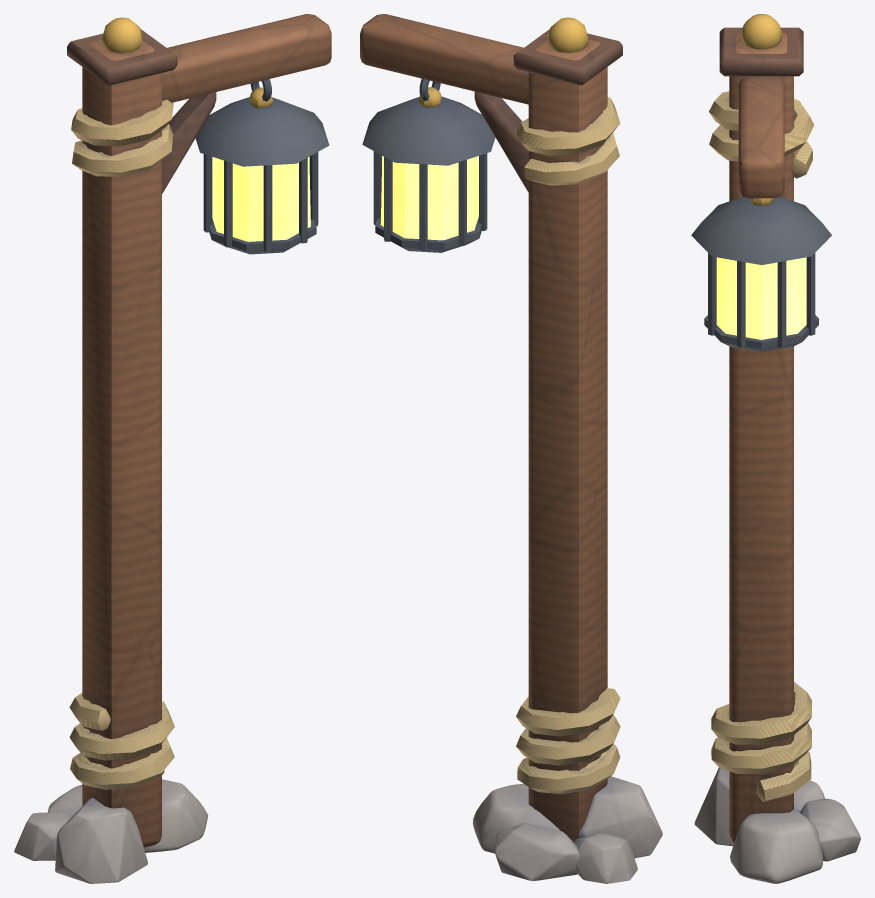
Rendered from CC_P09_HarborLantern.fbx.
The picture shows the model from 3 angles, left to right: view 1: azimuth 30°, elevation 25°; view 2: azimuth 150°, elevation 25°; view 3: azimuth 270°, elevation 25°; orthographic projection.
Parts seen in each view (by area): view 1: Post, Lantern, Arm; view 2: Post, Lantern, Arm; view 3: Post, Lantern, Arm.
Part boxes in pixels (left/top/right/bottom): Post: left=14, top=17, right=208, bottom=883; Lantern: left=195, top=79, right=329, bottom=254; Arm: left=162, top=14, right=331, bottom=193; Post: left=472, top=17, right=662, bottom=883; Lantern: left=362, top=78, right=495, bottom=252; Arm: left=360, top=14, right=528, bottom=192; Post: left=694, top=14, right=860, bottom=883; Lantern: left=691, top=197, right=831, bottom=352; Arm: left=738, top=76, right=784, bottom=198.
Bounding box in the file's own units: 0.8668 × 2.39 × 0.4452.
